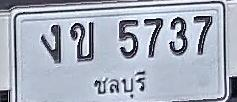3: (169, 16, 188, 55)
5: (118, 18, 139, 58)
7: (144, 18, 163, 58), (194, 15, 212, 55)
A02: (70, 22, 94, 62)
A07: (41, 24, 62, 63)
CBI: (90, 70, 150, 100)
